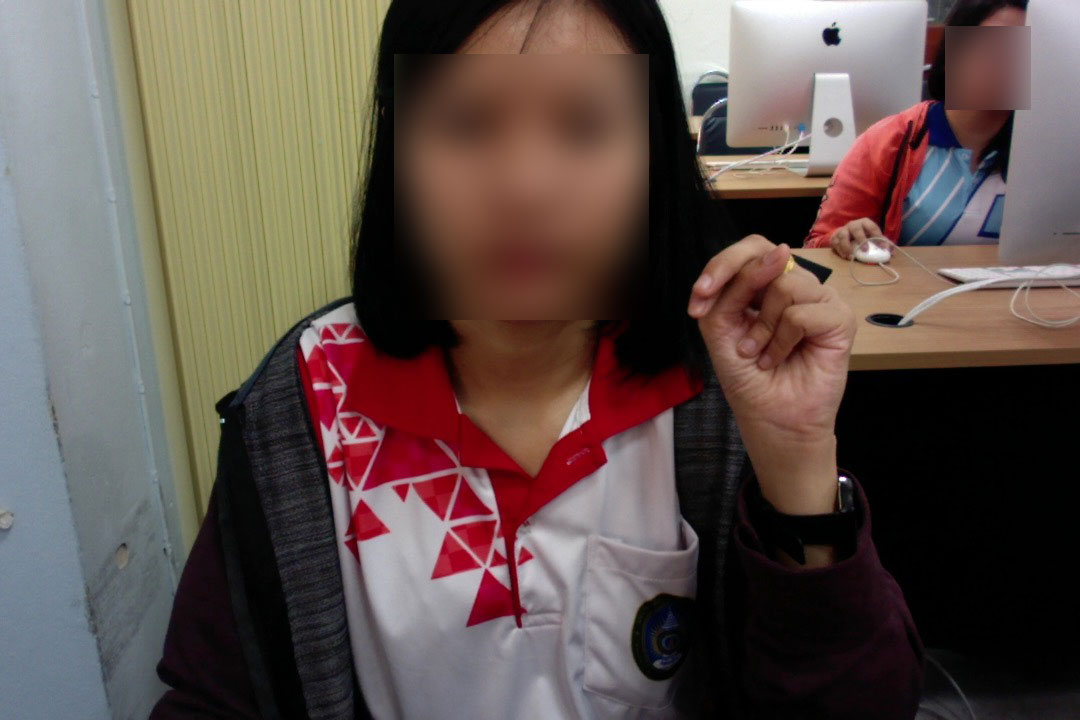nor: (684, 228, 865, 447)
